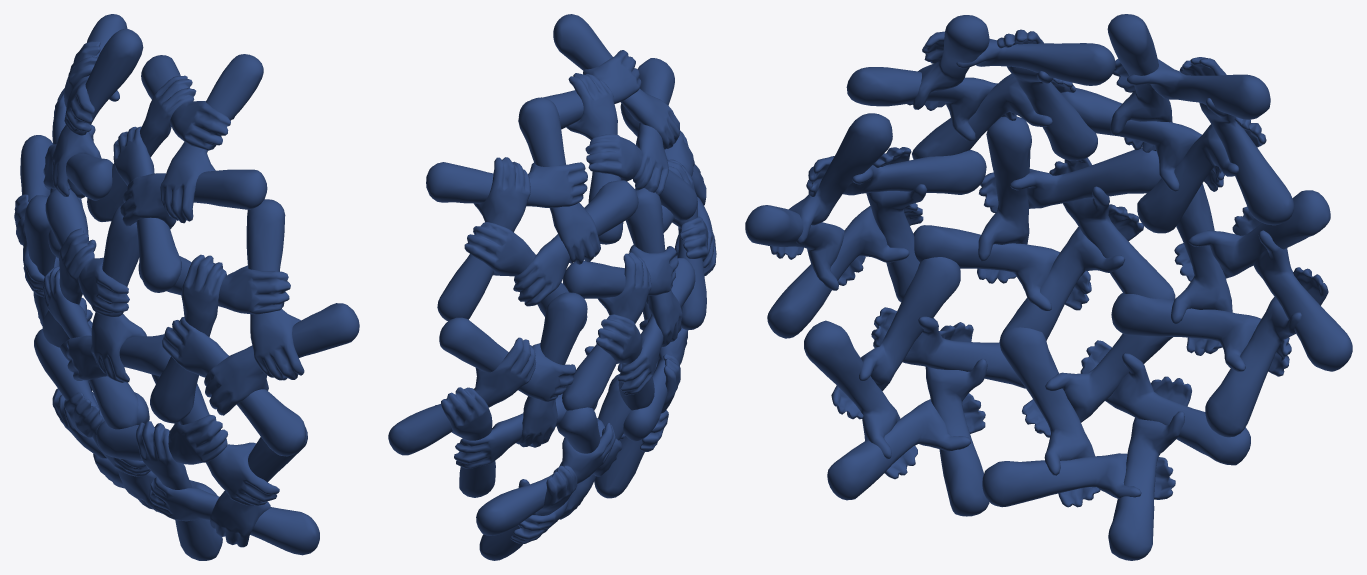
The model's file is hands.obj.
3 renders of one model, left to right at view 1: azimuth 30°, elevation 25°; view 2: azimuth 150°, elevation 25°; view 3: azimuth 270°, elevation 25°, orthographic. The views are drawn at different scales.
Parts seen in each view (by area): view 1: object_6, object_5, object_7, object_1, object_4, object_2, object_3; view 2: object_4, object_3, object_5, object_1, object_2, object_7, object_6; view 3: object_2, object_7, object_3, object_1, object_4, object_6, object_5.
Boxes of the visible parts, <box> form: object_6: <box>138,199,359,456</box>; object_5: <box>87,54,267,292</box>; object_7: <box>96,374,319,560</box>; object_1: <box>42,189,170,429</box>; object_4: <box>43,14,143,258</box>; object_2: <box>34,329,217,513</box>; object_3: <box>14,135,92,361</box>; object_4: <box>426,97,638,330</box>; object_3: <box>388,292,597,497</box>; object_5: <box>518,14,697,244</box>; object_1: <box>562,188,695,410</box>; object_2: <box>476,377,631,560</box>; object_7: <box>594,302,688,498</box>; object_6: <box>620,103,716,329</box>; object_2: <box>982,327,1250,560</box>; object_7: <box>804,257,1025,516</box>; object_3: <box>1111,183,1352,437</box>; object_1: <box>913,116,1175,343</box>; object_4: <box>1061,14,1293,233</box>; object_6: <box>745,113,986,338</box>; object_5: <box>846,15,1115,160</box>.
Size of the model in its own units: 1430 by 4839 by 4909.
